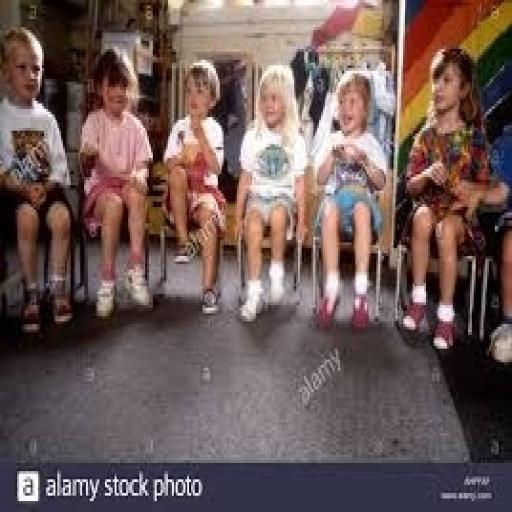sitting: (0, 24, 508, 357), (397, 44, 489, 351), (0, 24, 76, 334), (76, 46, 155, 322), (233, 63, 310, 324), (313, 68, 388, 330), (160, 57, 230, 316)
